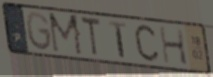C: (133, 23, 160, 63)
G: (24, 9, 54, 53)
H: (157, 24, 190, 67)
M: (47, 11, 85, 58)
T: (79, 15, 103, 60), (107, 20, 128, 60)
